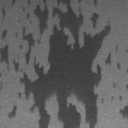red iron: (0, 0, 121, 128), (8, 106, 16, 120), (120, 106, 128, 117), (2, 6, 6, 19), (112, 96, 122, 100), (94, 0, 98, 6), (0, 82, 3, 90), (12, 0, 16, 5)
